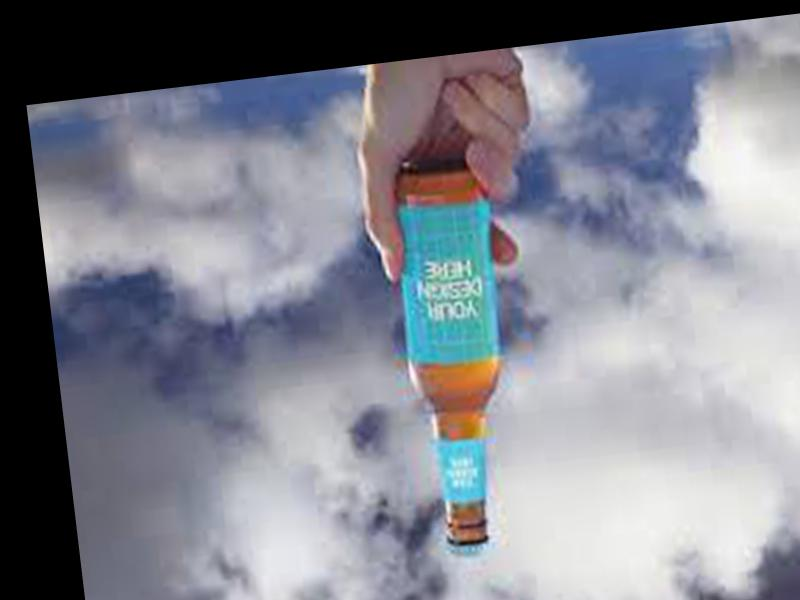Beer: (385, 160, 520, 558)
